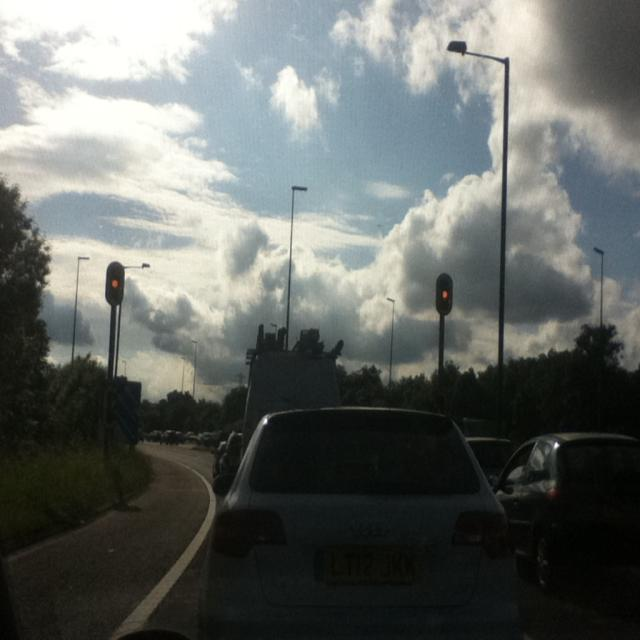traffic light: (106, 264, 124, 302), (437, 276, 453, 314)
